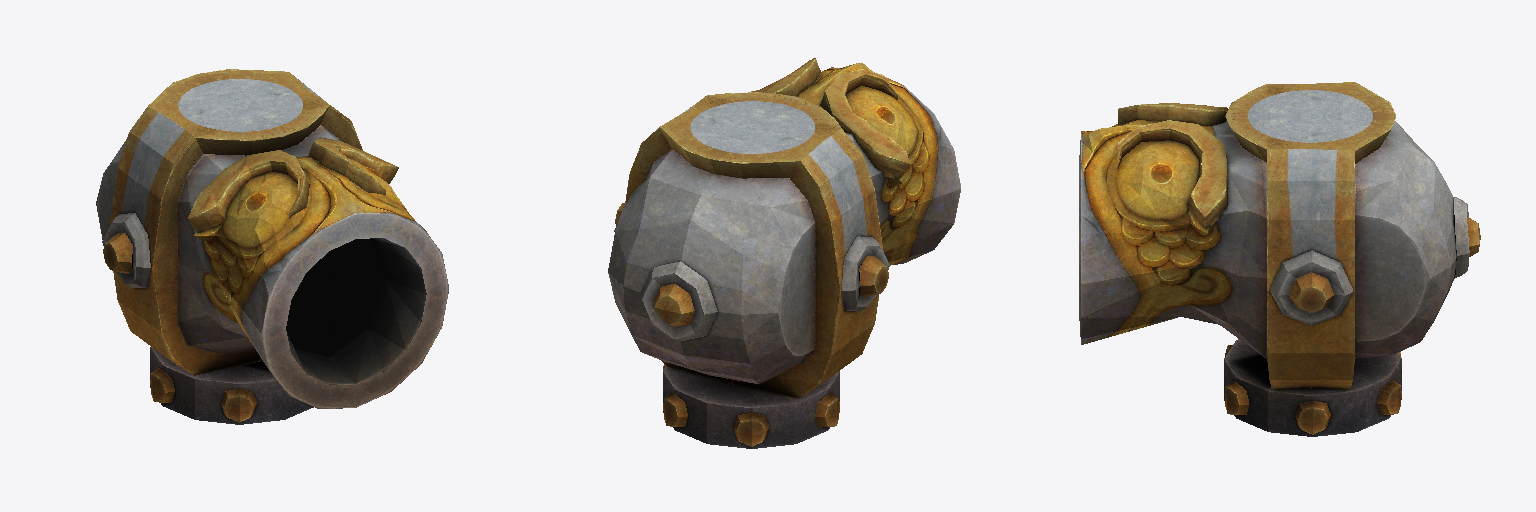
3 renders of one model, left to right at view 1: azimuth 30°, elevation 25°; view 2: azimuth 150°, elevation 25°; view 3: azimuth 270°, elevation 25°, orthographic.
Parts seen in each view (by area): view 1: canon_b1; view 2: canon_b1; view 3: canon_b1.
Part boxes in pixels (bbox=[...]): canon_b1: bbox=[96, 69, 448, 424]; canon_b1: bbox=[608, 58, 960, 448]; canon_b1: bbox=[1079, 82, 1480, 436].
Bounding box in the file's own units: 193 × 203 × 257.
1 materials, 1 textured.